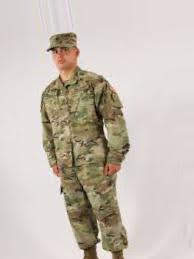uniform: (31, 32, 143, 252)
